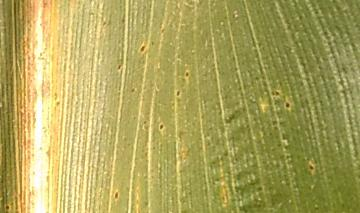tarspot: (172, 87, 183, 100), (272, 87, 282, 100), (308, 160, 316, 176), (182, 69, 193, 79), (157, 122, 166, 134), (283, 100, 292, 111), (113, 188, 120, 202), (115, 61, 123, 73), (139, 44, 148, 54), (2, 203, 12, 212)
